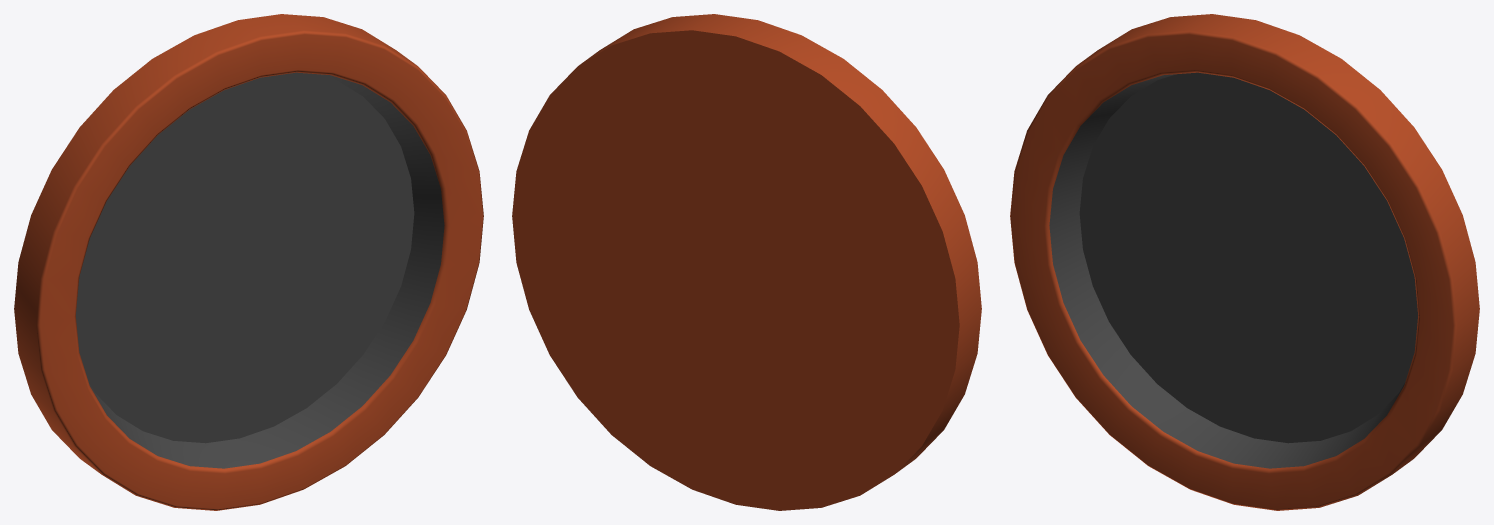
Rendered from SP_Tower01_Exhust01.fbx.
3 renders of one model, left to right at view 1: azimuth 30°, elevation 25°; view 2: azimuth 150°, elevation 25°; view 3: azimuth 330°, elevation 25°, orthographic.
Visible parts, largest first — view 1: SP_Tower01_Exhust01; view 2: SP_Tower01_Exhust01; view 3: SP_Tower01_Exhust01.
Part boxes in pixels (<box>): SP_Tower01_Exhust01: <box>14,14,483,510</box>; SP_Tower01_Exhust01: <box>512,14,981,510</box>; SP_Tower01_Exhust01: <box>1010,14,1479,510</box>.
Bounding box in the file's own units: 5.28 × 5.28 × 0.4876.
